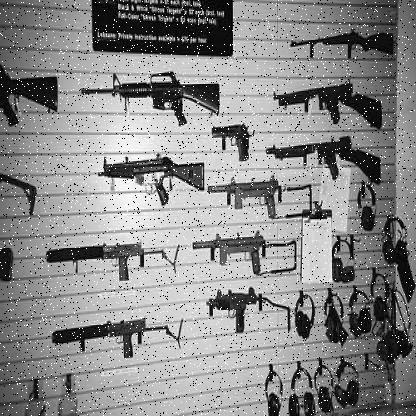rifle: (79, 62, 222, 132), (257, 116, 385, 183), (46, 231, 182, 284), (272, 76, 385, 135), (45, 307, 151, 364), (290, 18, 395, 70), (97, 151, 207, 199), (188, 232, 266, 280), (200, 288, 264, 342), (207, 176, 284, 218)
